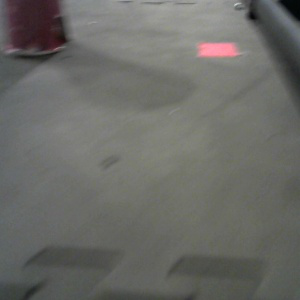Middle: (5, 1, 68, 56)
